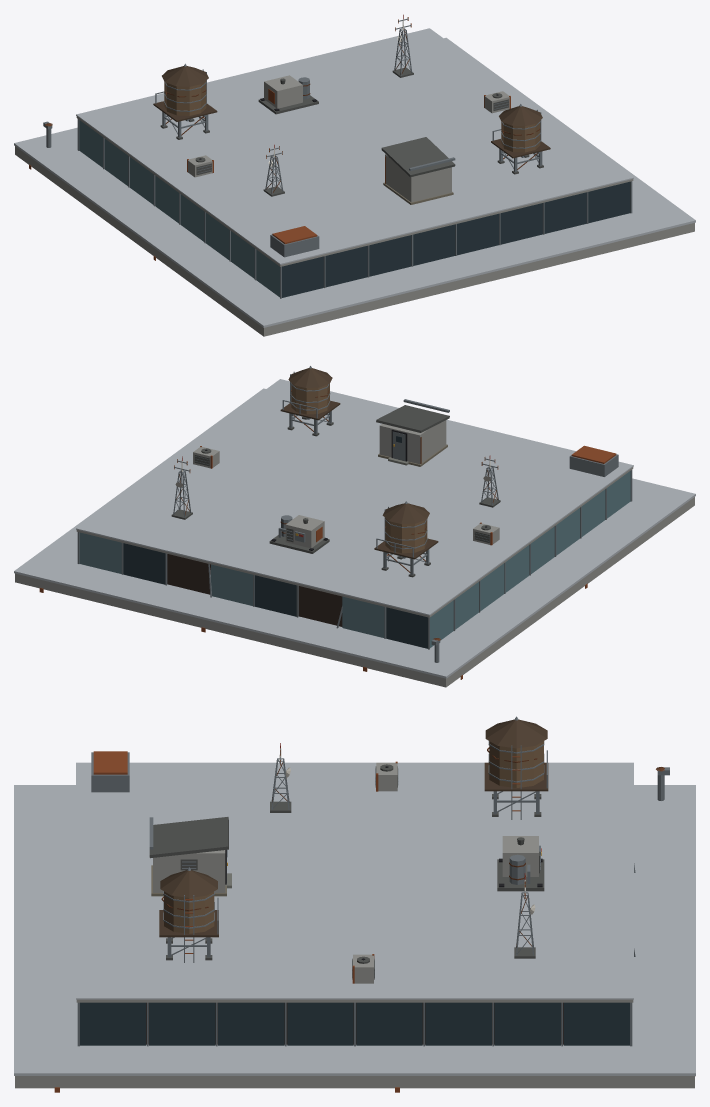
The model's file is tw_glass_32_crown.glb.
The picture shows the model from 3 angles, top to bottom: view 1: azimuth 30°, elevation 25°; view 2: azimuth 150°, elevation 25°; view 3: azimuth 270°, elevation 25°; orthographic projection. The views are drawn at different scales.
Visible parts, largest first — view 1: tw_glass_32_crown; view 2: tw_glass_32_crown; view 3: tw_glass_32_crown.
Part boxes in pixels (<box>): tw_glass_32_crown: <box>14,14,695,336</box>; tw_glass_32_crown: <box>14,366,695,687</box>; tw_glass_32_crown: <box>14,716,695,1092</box>.
Bounding box in the file's own units: 32.08 × 8.28 × 32.08.
Materials: 3 (3 with a texture image).
